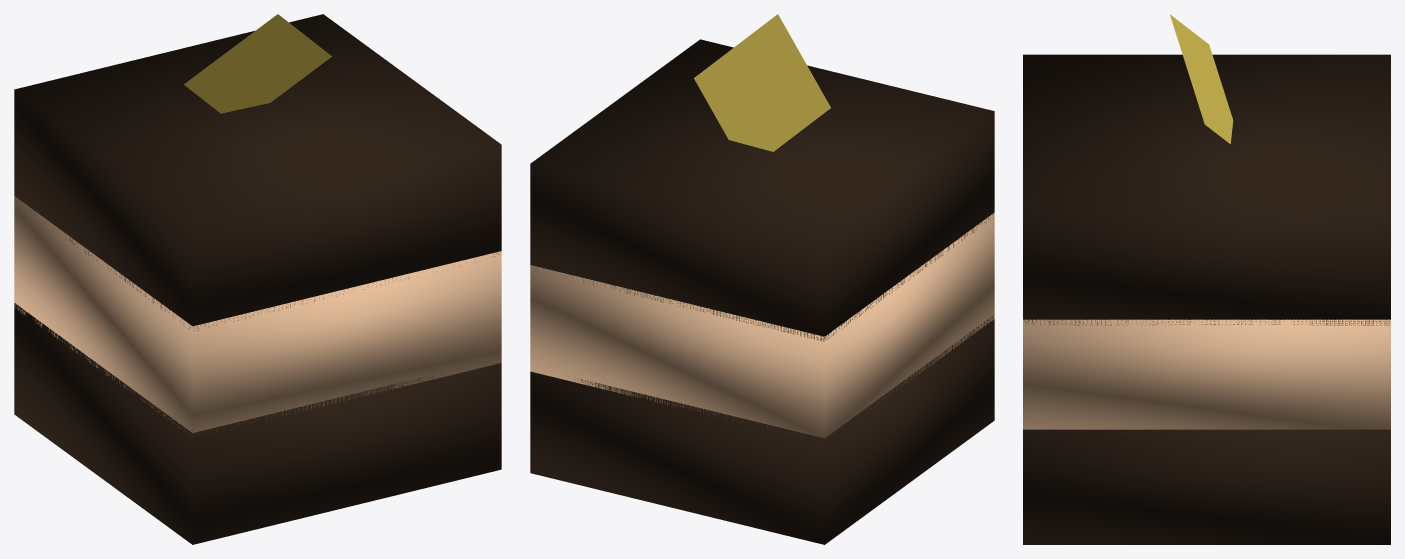
Rendered from cake.glb.
3 views of the same model, side by side, from view 1: azimuth 30°, elevation 25°; view 2: azimuth 150°, elevation 25°; view 3: azimuth 270°, elevation 25° (orthographic). The views are drawn at different scales.
Visible parts, largest first — view 1: Cube.002, Cube, Cube.001, Plane; view 2: Cube.002, Cube, Cube.001, Plane; view 3: Cube.002, Cube, Cube.001, Plane.
Boxes of the visible parts, x1,y1,x2,y2 form: Cube.002: [14, 14, 501, 331]; Cube: [14, 303, 501, 544]; Cube.001: [14, 196, 501, 436]; Plane: [184, 14, 331, 113]; Cube.002: [530, 39, 994, 341]; Cube: [530, 315, 994, 544]; Cube.001: [530, 212, 994, 438]; Plane: [694, 14, 830, 151]; Cube.002: [1023, 54, 1390, 325]; Cube: [1023, 429, 1390, 544]; Cube.001: [1023, 319, 1390, 431]; Plane: [1170, 14, 1233, 143].
Bounding box in the file's own units: 0.1 × 0.1362 × 0.1.
